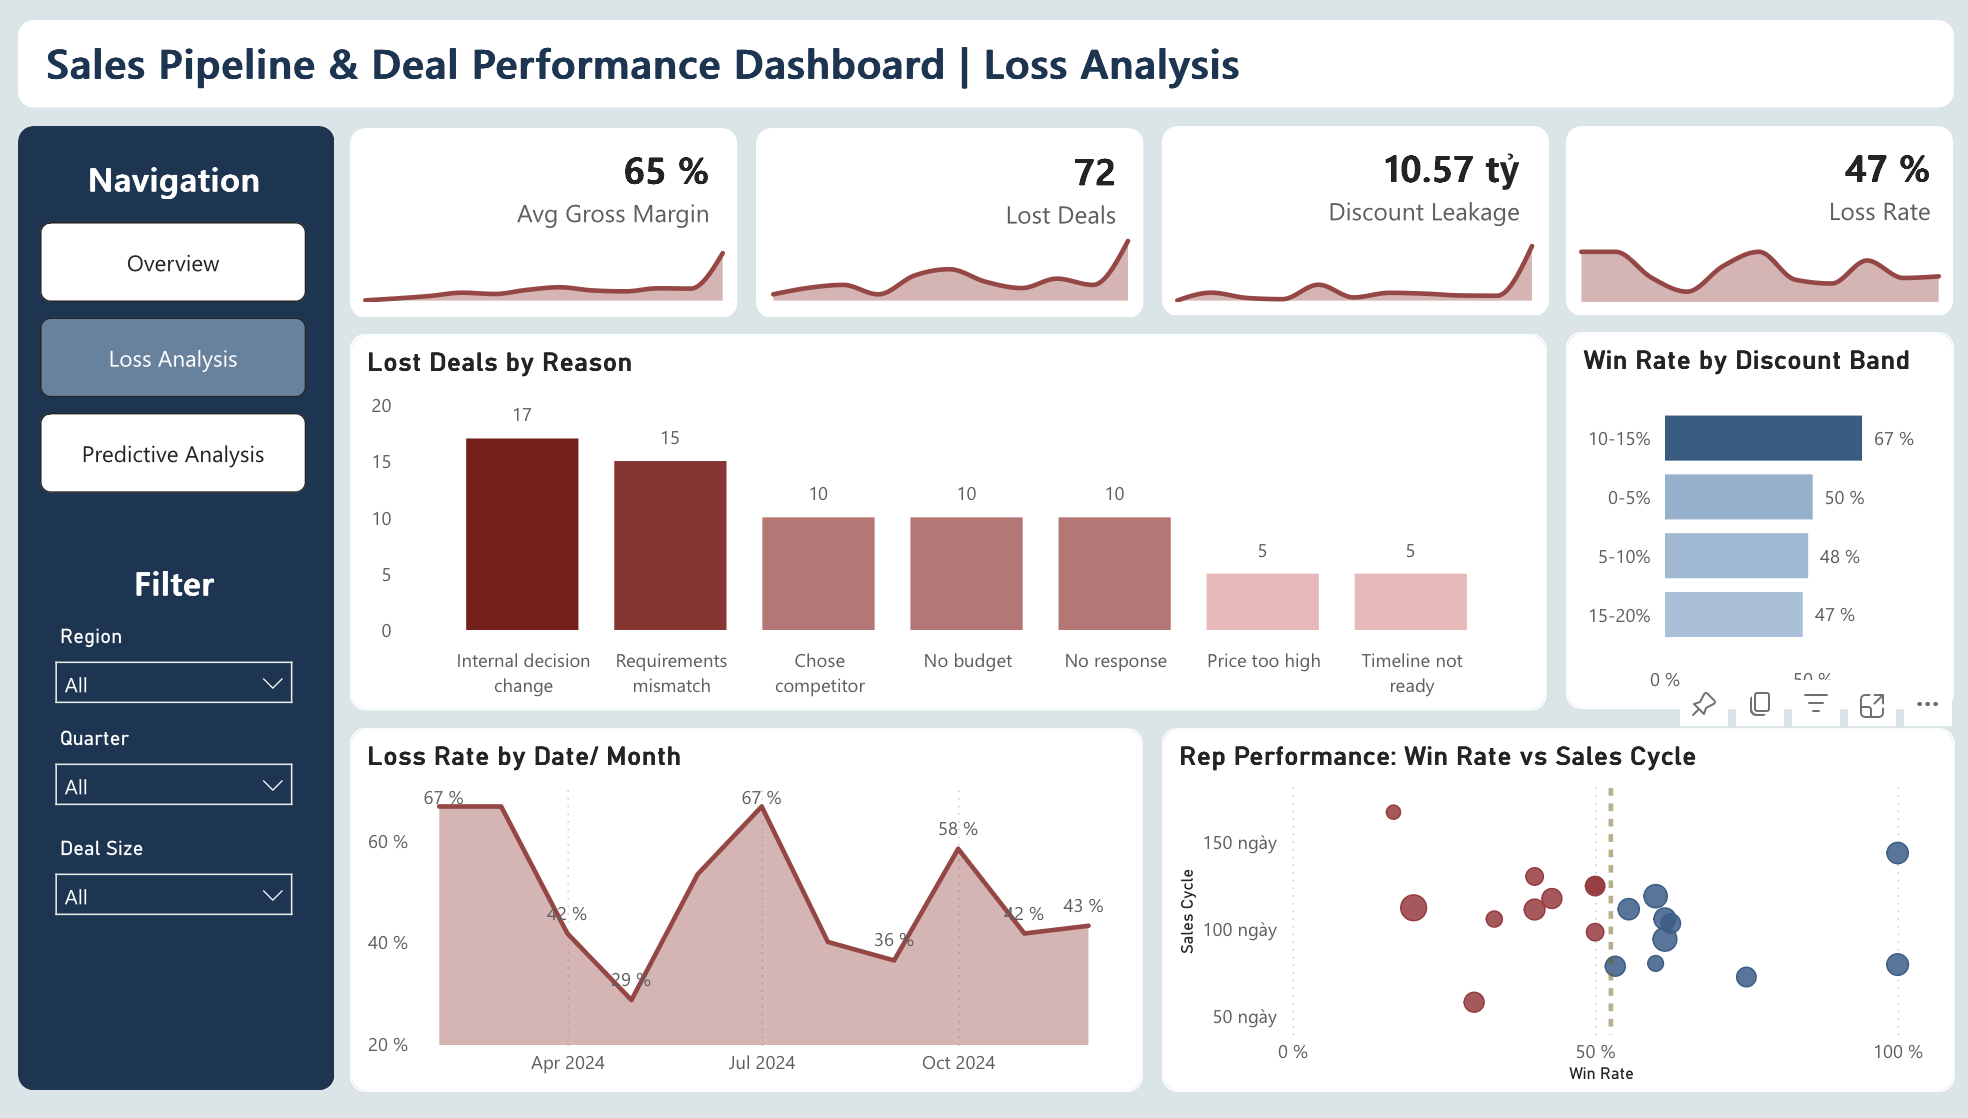

This screenshot's page, from the dashboard's own definition file:
{"tool":"powerbi","page":{"name":"Loss Analysis","canvas":[1280,720],"ordinal":1},"visuals":[{"type":"shape","box":[11.1,82.3,205.7,626.6],"z":0},{"type":"shape","box":[11.1,12.7,1257.8,57],"z":1000},{"type":"textbox","title":"Sales Pipeline & Deal Performance Dashboard  |   Loss Analysis","box":[24.7,21.6,1052.8,35.6],"z":2000},{"type":"shape","box":[227.4,82.8,251.8,123.5],"z":3000},{"type":"cardVisual","fields":{"Data":["Avg(Deals.Gross_Margin_%)"]},"box":[252.1,75.3,238.1,91.1],"z":4000},{"type":"lineChart","fields":{"Category":["Date.MonthStart"],"Y":["Sum(Deals.Gross_Margin_%)"]},"box":[227.6,145.3,252.1,50.8],"z":5000},{"type":"shape","box":[1017.4,82.3,251.6,123.4],"z":6000},{"type":"shape","box":[754.7,82.3,251.6,123.4],"z":7000},{"type":"shape","box":[490.6,82.8,251.8,123.5],"z":8000},{"type":"cardVisual","fields":{"Data":["Deals.Lost Deals"]},"box":[591.8,78.8,163.9,85],"z":9000},{"type":"lineChart","fields":{"Category":["Date.MonthStart"],"Y":["Deals.Lost Deals"]},"box":[492,145.3,250.4,50.8],"z":10000},{"type":"cardVisual","fields":{"Data":["Deals.Discount Leakage"]},"box":[823,70,194.6,99.7],"z":11000},{"type":"lineChart","fields":{"Category":["Date.MonthStart"],"Y":["Deals.Discount Leakage"]},"box":[754.7,145.3,250.4,50.8],"z":12000},{"type":"cardVisual","fields":{"Data":["Deals.Loss Rate"]},"box":[1043.6,71.8,235.7,96.5],"z":13000},{"type":"lineChart","fields":{"Category":["Date.MonthStart"],"Y":["Deals.Loss Rate"]},"box":[1017.3,145.3,252.1,50.8],"z":14000},{"type":"lineStackedColumnComboChart","title":"Lost Deals by Reason","fields":{"Category":["Deals.Lost_Reason"],"Y":["Deals.Lost Deals"]},"box":[228,216.4,777.3,244.7],"z":15000},{"type":"clusteredBarChart","fields":{"Category":["Deals.Discount Band"],"Y":["Deals.Win Rate"]},"box":[1017.3,215.4,252.1,245.1],"z":16000},{"type":"scatterChart","title":"Rep Performance: Win Rate vs Sales Cycle","fields":{"Category":["Deals.Sales_Rep"],"Size":["Sum(Deals.Net_Revenue_VND)"],"X":["Deals.Win Rate"],"Y":["Deals.Sales Cycle"]},"box":[754.7,472.8,514.8,236.4],"z":17000},{"type":"textbox","title":"Navigation","box":[10.9,101,205,32.6],"z":18000},{"type":"pageNavigator","box":[26.4,144.5,174,178.6],"z":19000},{"type":"textbox","title":"Filter","box":[10.9,363.5,205,32.6],"z":20000},{"type":"slicer","fields":{"Values":["Deals.Quarter"]},"box":[26.4,469.1,174,60.6],"z":21000},{"type":"slicer","fields":{"Values":["Deals.Region"]},"box":[26.4,402.3,174,60.6],"z":22000},{"type":"slicer","fields":{"Values":["Deals.Deal_Size_Tier"]},"box":[26.4,540.6,174,60.6],"z":23000},{"type":"areaChart","fields":{"Category":["Date.MonthStart"],"Y":["Deals.Loss Rate"]},"box":[227.6,472.8,514.8,236.4],"z":24000}]}

Visuals, with their boxes in screenshot pixels (x1, y1, x2, y2), scaled from the page's 1280x720 canvas onto the 1968x1118 screenshot:
shape: [17,128,333,1101]
shape: [17,20,1951,108]
"Sales Pipeline & Deal Performance Dashboard  |   Loss Analysis" textbox: [38,34,1657,89]
shape: [350,129,737,320]
cardVisual - Avg(Deals.Gross_Margin_%): [388,117,754,258]
lineChart - Date.MonthStart x Sum(Deals.Gross_Margin_%): [350,226,738,304]
shape: [1564,128,1951,319]
shape: [1160,128,1547,319]
shape: [754,129,1141,320]
cardVisual - Deals.Lost Deals: [910,122,1162,254]
lineChart - Date.MonthStart x Deals.Lost Deals: [756,226,1141,304]
cardVisual - Deals.Discount Leakage: [1265,109,1565,264]
lineChart - Date.MonthStart x Deals.Discount Leakage: [1160,226,1545,304]
cardVisual - Deals.Loss Rate: [1605,111,1967,261]
lineChart - Date.MonthStart x Deals.Loss Rate: [1564,226,1952,304]
"Lost Deals by Reason" lineStackedColumnComboChart: [351,336,1546,716]
clusteredBarChart - Deals.Discount Band x Deals.Win Rate: [1564,334,1952,715]
"Rep Performance: Win Rate vs Sales Cycle" scatterChart: [1160,734,1952,1101]
"Navigation" textbox: [17,157,332,207]
pageNavigator: [41,224,308,502]
"Filter" textbox: [17,564,332,615]
slicer - Deals.Quarter: [41,728,308,823]
slicer - Deals.Region: [41,625,308,719]
slicer - Deals.Deal_Size_Tier: [41,839,308,934]
areaChart - Date.MonthStart x Deals.Loss Rate: [350,734,1141,1101]
